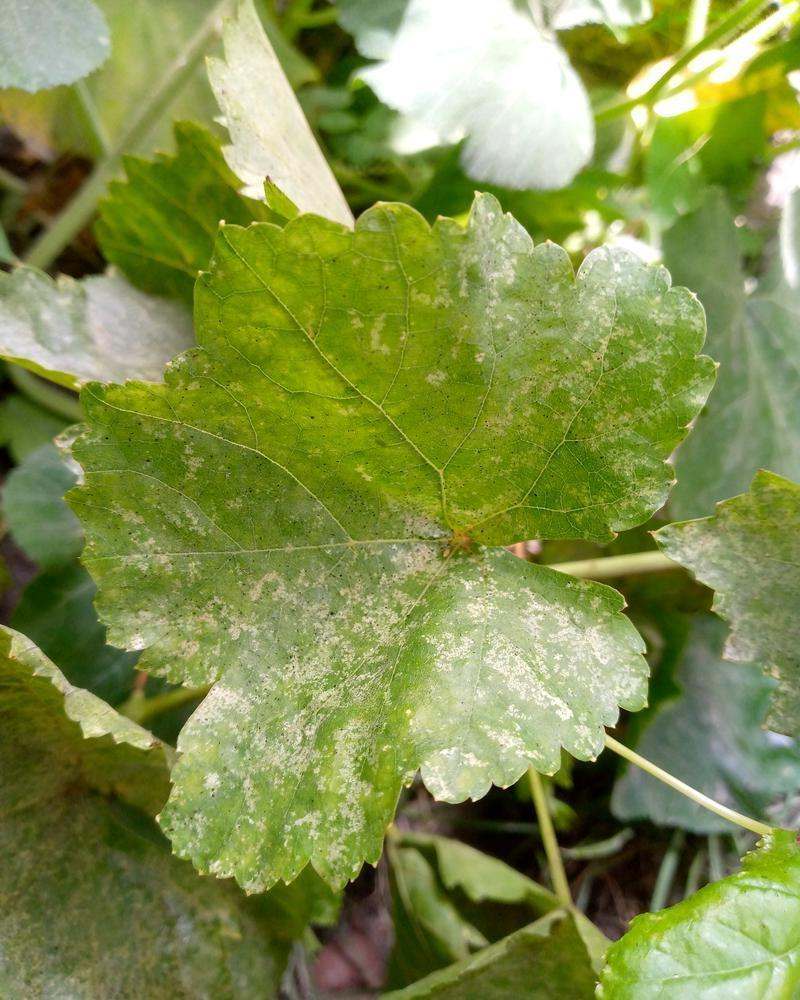Powdery-Mildew: (261, 541, 641, 796), (107, 575, 298, 798), (570, 252, 699, 367), (141, 444, 257, 566), (458, 200, 542, 356), (291, 744, 377, 879), (596, 391, 670, 518), (354, 279, 462, 350), (58, 416, 135, 505), (476, 630, 503, 681), (447, 860, 451, 888)
